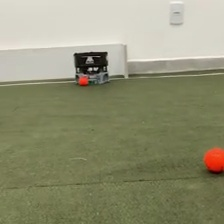ball: (202, 145, 224, 174), (78, 74, 90, 86)
goal: (1, 40, 129, 84)
robot: (72, 50, 112, 85)
